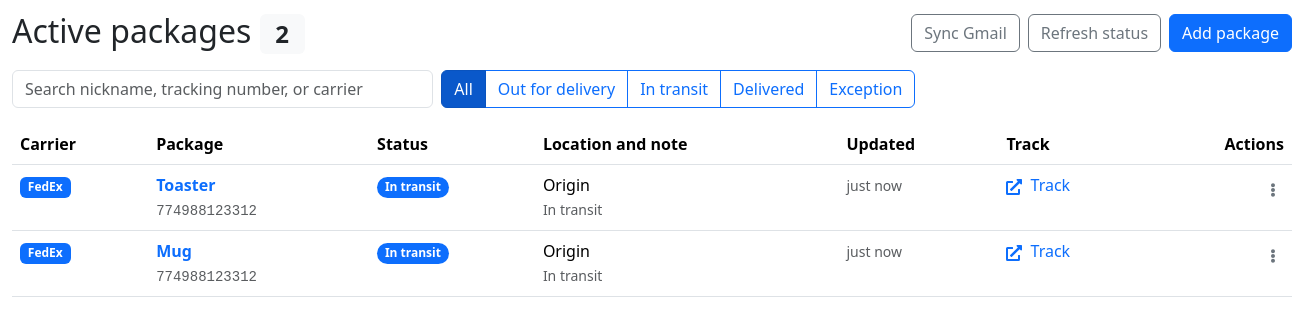
DashboardPage › narrows rows by case-insensitive nickname search
Expected: the text "Toaster" is shown, [156,174,215,196]
Type "mug" into the search field with placeholder "Search nickname, tracking number, or carrier". click: (223,89)
box: [12,70,433,108]
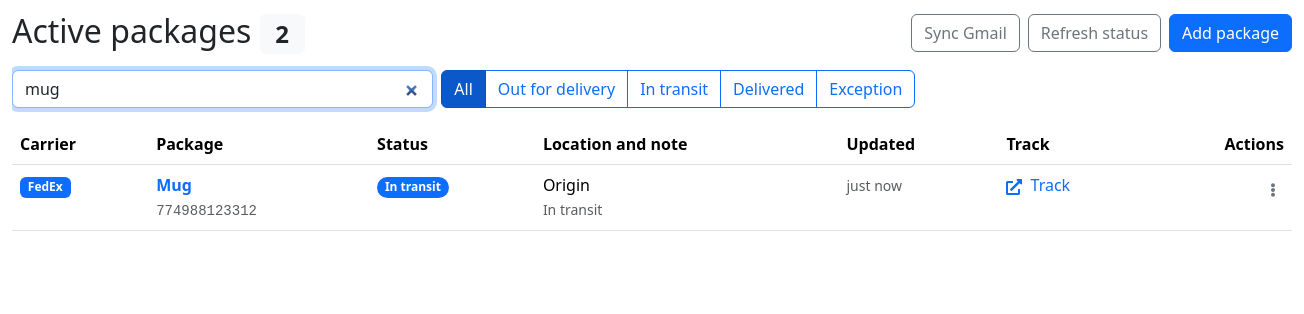
Expected: the text "Mug" is shown, [156,174,192,196]
Expected: the link "Toaster" is gone
